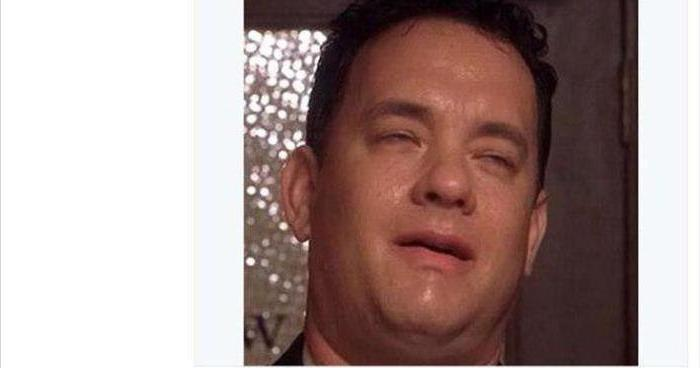Drunk: (328, 22, 533, 330)
